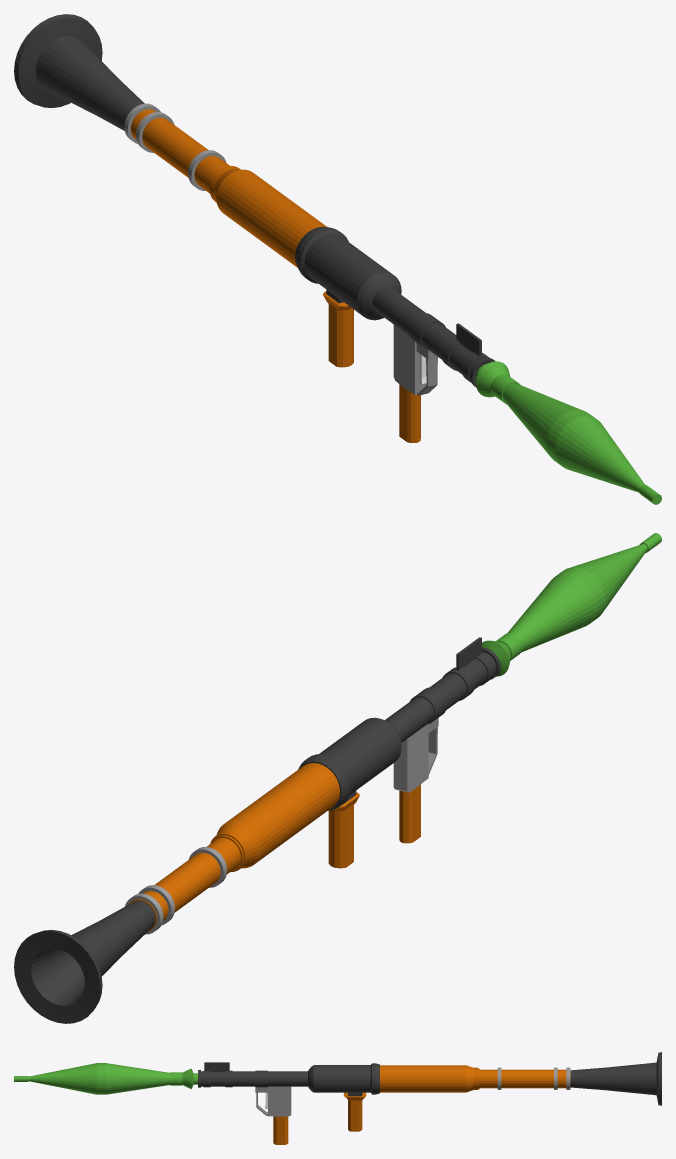
The model's file is RPG7.fbx.
The picture shows the model from 3 angles, top to bottom: view 1: azimuth 30°, elevation 25°; view 2: azimuth 150°, elevation 25°; view 3: azimuth 270°, elevation 25°; orthographic projection. The views are drawn at different scales.
Visible parts, largest first — view 1: RPG; view 2: RPG; view 3: RPG.
Part boxes in pixels (bbox=[...]): RPG: bbox=[14, 14, 661, 504]; RPG: bbox=[14, 533, 661, 1023]; RPG: bbox=[14, 1052, 661, 1144].
Size of the model in its own units: 11.31 by 20.53 by 136.
